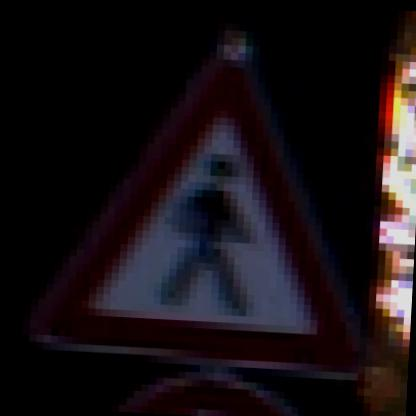crosswalk: (32, 56, 370, 372)
